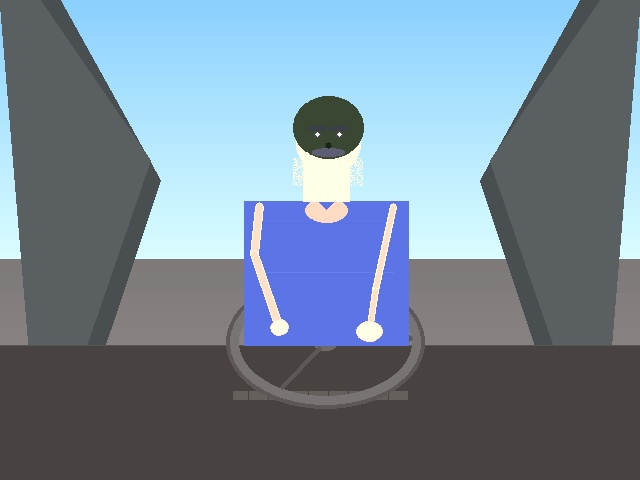normal_driving: (99, 192, 325, 342)
